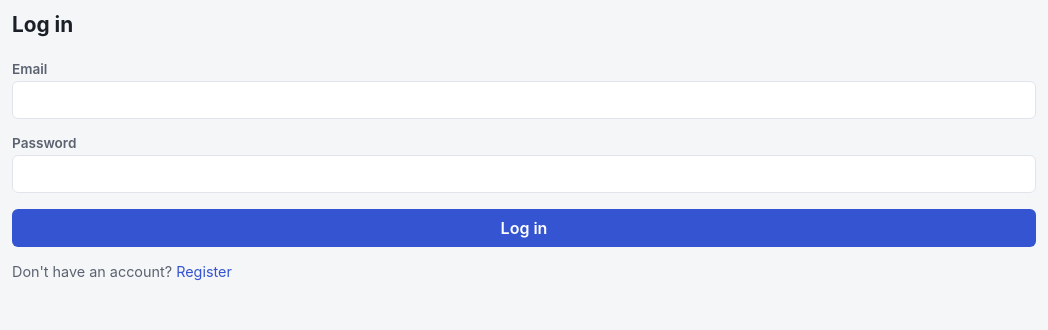
it: LoginPage › shows a server error message on failed login
Type "manavi@example.com" into the field labelled "Email" at [524, 100], box [12,81,1036,119]
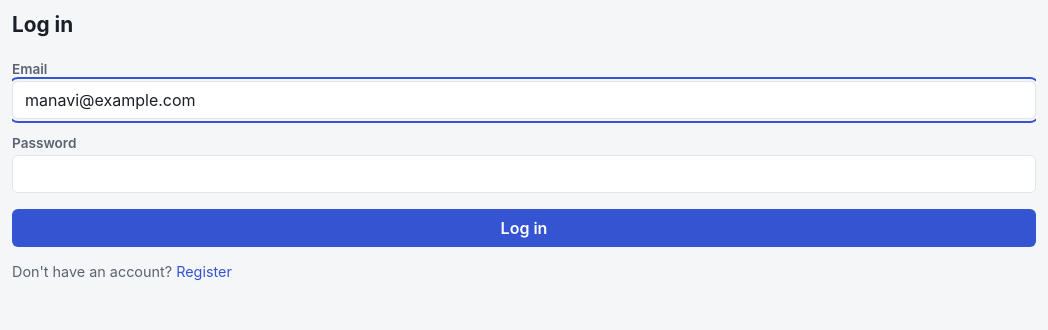
Type "WrongPass1" into the password field labelled "Password" at [524, 174], box [12,155,1036,193]
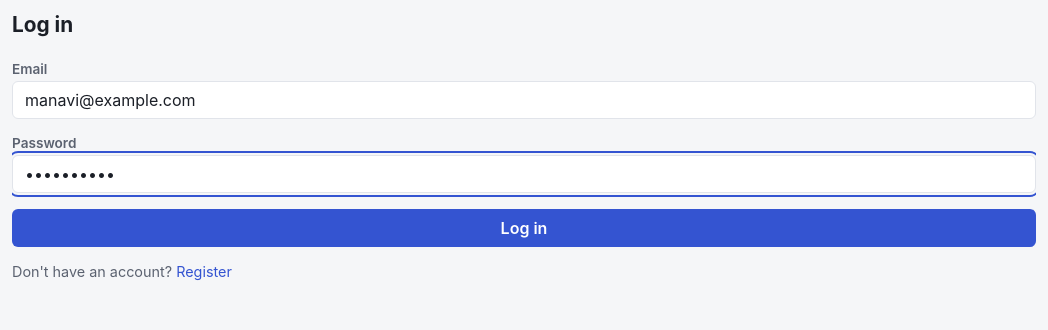
Click the button "Log in" at [524, 228], box [12,209,1036,247]
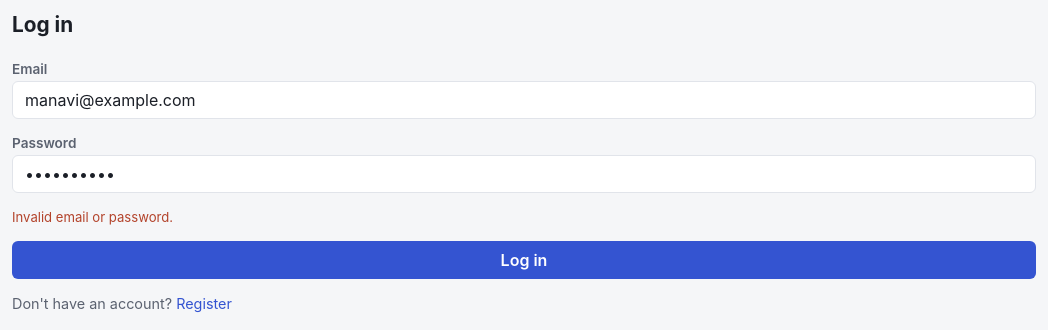
Check: the text "Invalid email or password." is shown, box [12,209,173,225]
